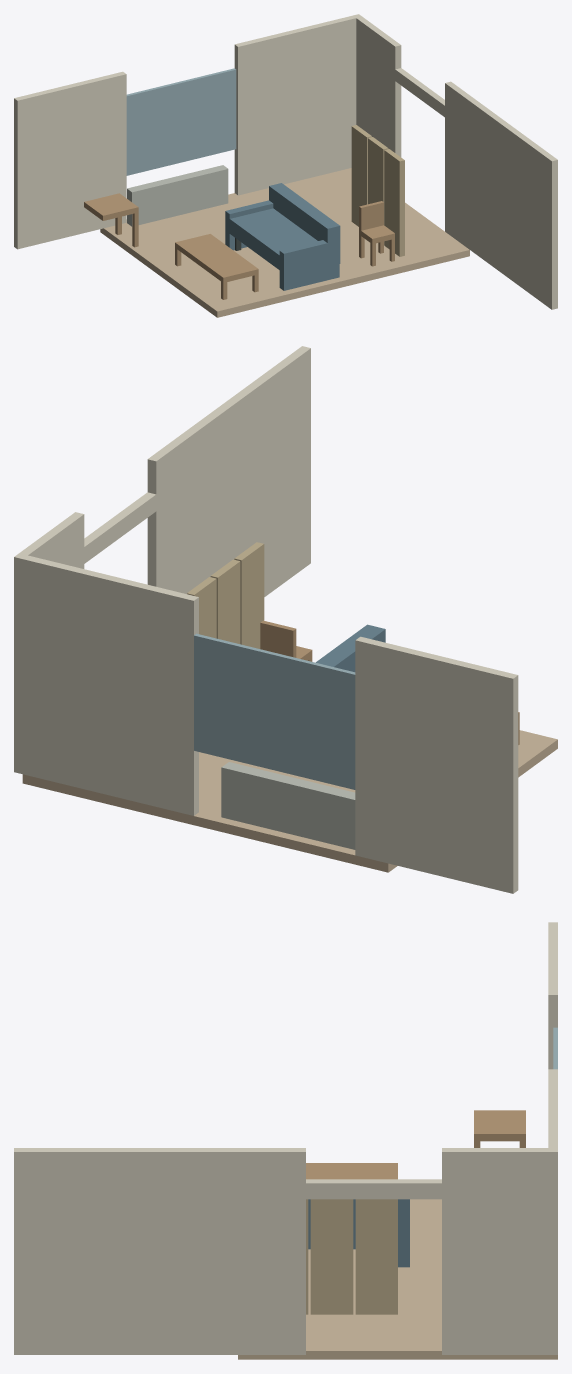
3 views of the same model, one above another, from view 1: azimuth 30°, elevation 25°; view 2: azimuth 150°, elevation 25°; view 3: azimuth 270°, elevation 25° (orthographic). The views are drawn at different scales.
Parts seen in each view (by area): view 1: WN2_2, WE2_5, GROUND_0, WN1_1, NW_3, WE1_4, R1_25, S1_9, S1A_12, T1_17, S1B_10, SC3_28 (+7 smaller); view 2: WN2_2, WN1_1, WE2_5, NW_3, R1_25, GROUND_0, SC3_28, WE1_4, SC2_27, PORTAL-lintel_8, S1B_10, SC1_26 (+1 smaller); view 3: WE2_5, WE1_4, GROUND_0, SC2_27, SC1_26, PORTAL-lintel_8, WN2_2, D1_22, T1_17, WN1_1, S1B_10, PORTAL-j1_6 (+1 smaller).
Part boxes in pixels (x1=…): WN2_2: x1=234, y1=14, x2=361, y2=195; WE2_5: x1=445, y1=81, x2=557, y2=309; GROUND_0: x1=100, y1=168, x2=469, y2=317; WN1_1: x1=14, y1=71, x2=126, y2=249; NW_3: x1=126, y1=68, x2=236, y2=175; WE1_4: x1=353, y1=14, x2=401, y2=157; R1_25: x1=127, y1=165, x2=228, y2=226; S1_9: x1=225, y1=208, x2=339, y2=269; S1A_12: x1=279, y1=240, x2=339, y2=290; T1_17: x1=175, y1=234, x2=258, y2=282; S1B_10: x1=269, y1=183, x2=340, y2=266; SC3_28: x1=384, y1=149, x2=404, y2=256; WN2_2: x1=14, y1=553, x2=198, y2=815; WN1_1: x1=355, y1=636, x2=518, y2=893; WE2_5: x1=147, y1=346, x2=310, y2=596; NW_3: x1=194, y1=633, x2=355, y2=789; R1_25: x1=221, y1=762, x2=355, y2=849; GROUND_0: x1=22, y1=730, x2=557, y2=872; SC3_28: x1=234, y1=542, x2=264, y2=648; WE1_4: x1=14, y1=512, x2=84, y2=769; SC2_27: x1=210, y1=559, x2=240, y2=643; PORTAL-lintel_8: x1=84, y1=492, x2=156, y2=563; S1B_10: x1=316, y1=624, x2=385, y2=672; SC1_26: x1=187, y1=577, x2=216, y2=638; WE2_5: x1=14, y1=1148, x2=305, y2=1354; WE1_4: x1=442, y1=1148, x2=557, y2=1354; GROUND_0: x1=238, y1=1199, x2=557, y2=1359; SC2_27: x1=310, y1=1199, x2=353, y2=1314; SC1_26: x1=355, y1=1199, x2=397, y2=1314; PORTAL-lintel_8: x1=306, y1=1179, x2=441, y2=1199; WN2_2: x1=548, y1=1069, x2=557, y2=1354; D1_22: x1=474, y1=1110, x2=525, y2=1141; T1_17: x1=306, y1=1163, x2=397, y2=1179; WN1_1: x1=548, y1=922, x2=557, y2=1069; S1B_10: x1=308, y1=1199, x2=409, y2=1249; PORTAL-j1_6: x1=442, y1=1188, x2=448, y2=1354.
Size of the model in its own units: 6.8 by 2.92 by 6.8.
